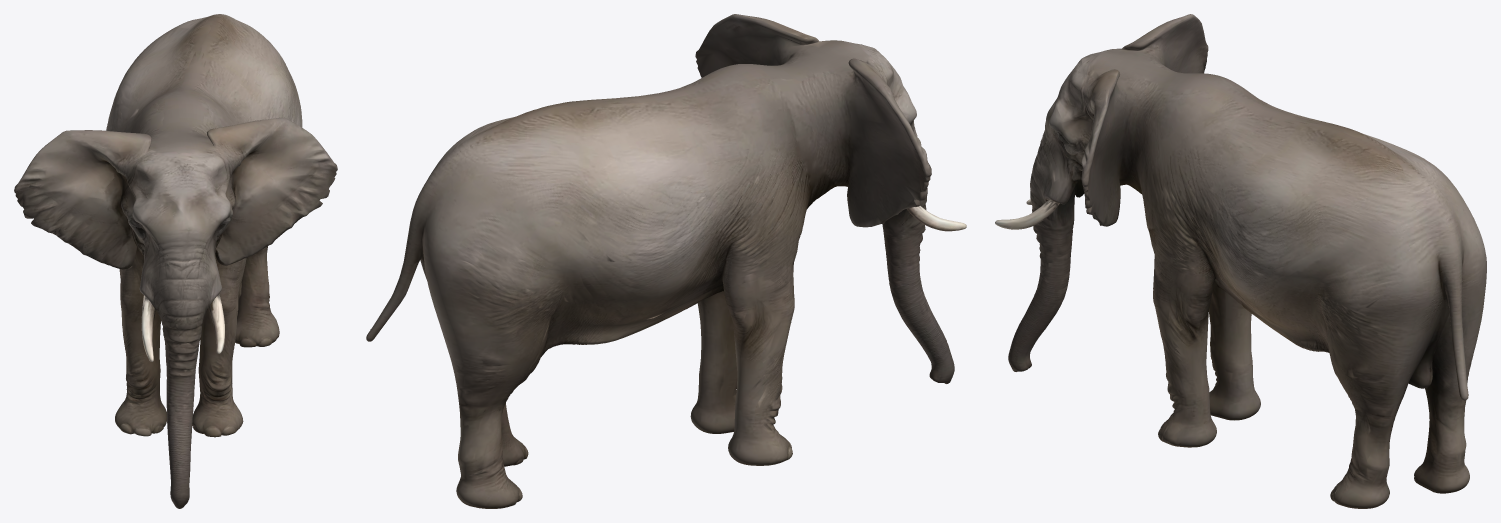
Rendered from african-savanna-elephant.glb.
The picture shows the model from 3 angles, left to right: view 1: azimuth 30°, elevation 25°; view 2: azimuth 150°, elevation 25°; view 3: azimuth 270°, elevation 25°; orthographic projection. The views are drawn at different scales.
Visible parts, largest first — view 1: node_0; view 2: node_0; view 3: node_0.
Boxes of the visible parts, x1,y1,x2,y2 form: node_0: (14, 14, 337, 508); node_0: (366, 14, 966, 508); node_0: (995, 14, 1486, 508).
Size of the model in its own units: 0.8515 by 0.7124 by 0.9071.
Materials: 1 (1 with a texture image).
